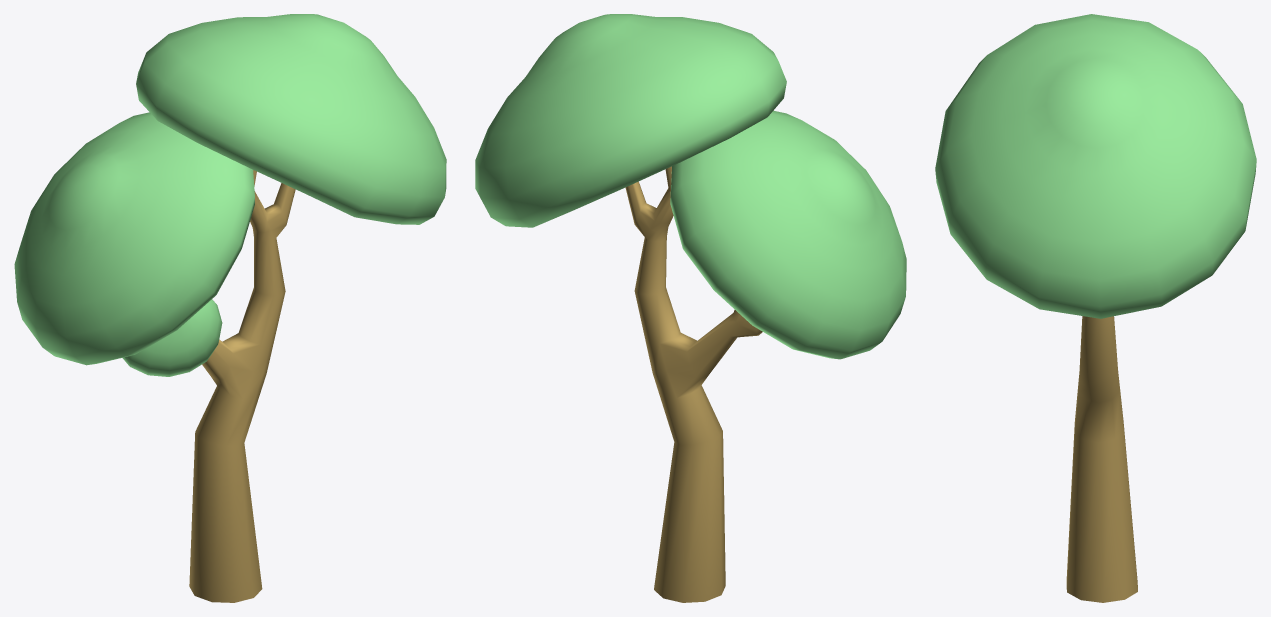
File: tree 1.fbx
3 views of the same model, side by side, from view 1: azimuth 30°, elevation 25°; view 2: azimuth 150°, elevation 25°; view 3: azimuth 270°, elevation 25° (orthographic). The views are drawn at different scales.
Parts seen in each view (by area): view 1: tree__1; view 2: tree__1; view 3: tree__1.
Part boxes in pixels (box(x1,y1,x2,y2)): tree__1: box(14, 14, 446, 602); tree__1: box(475, 14, 906, 602); tree__1: box(935, 14, 1256, 602).
Size of the model in its own units: 16.16 by 21.54 by 11.15.
